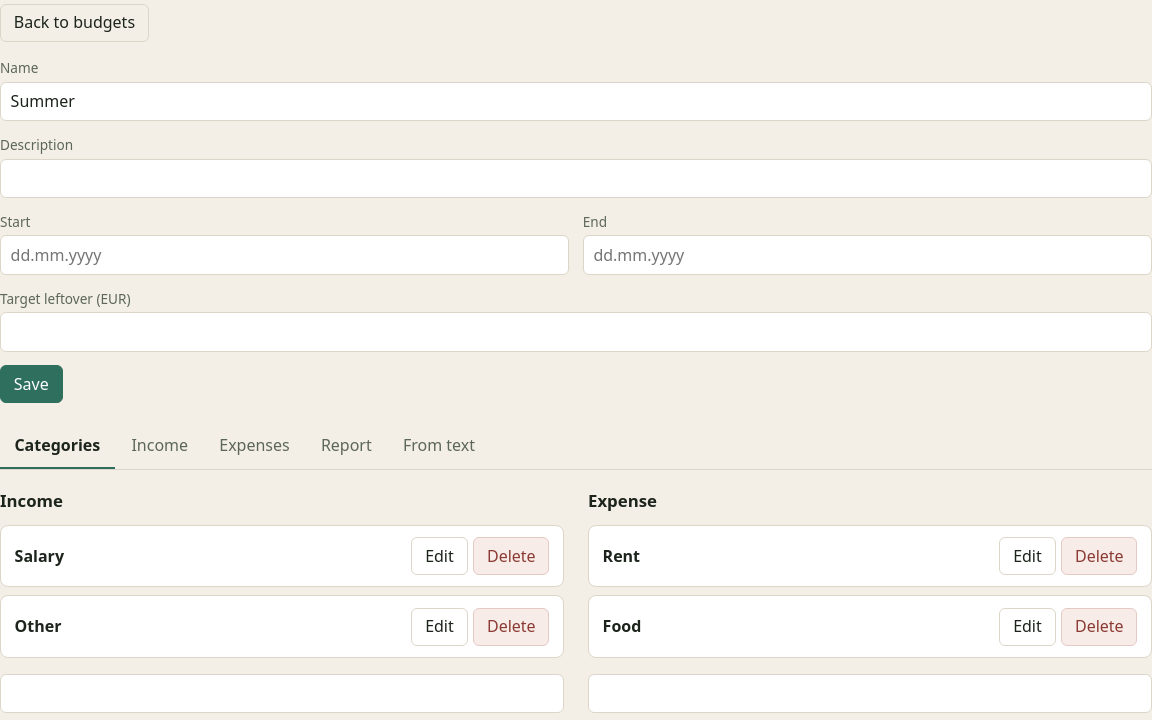
Test: AC8: Hide target leftover when unset › AC8: Hide target leftover when unset
What coordinates should you click on to do the following:
click the button "Report"
I would click on:
 (346, 446)
Its box is [306, 423, 386, 469].
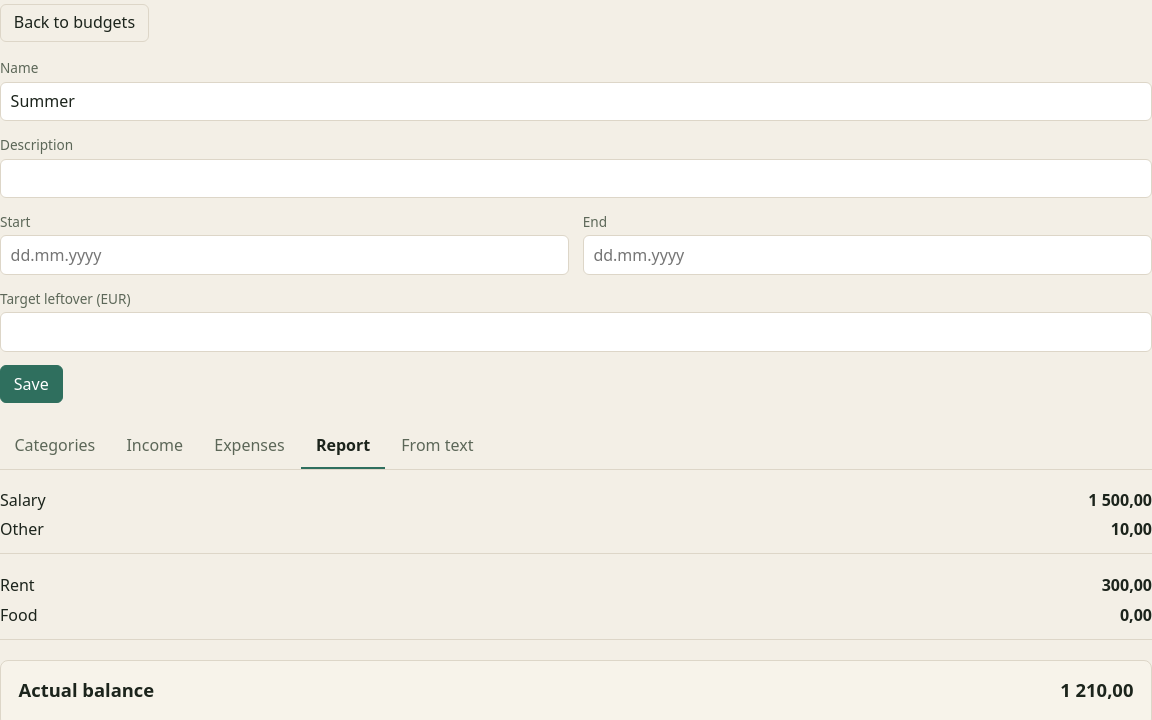
Expected: the text "Actual balance" is shown, [19, 677, 154, 704]
Expected: the text "1 210,00" is shown, [1060, 677, 1133, 704]
